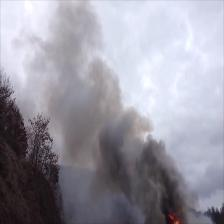smoke: (54, 43, 98, 139), (105, 112, 142, 184), (145, 153, 171, 218), (170, 187, 190, 212)
